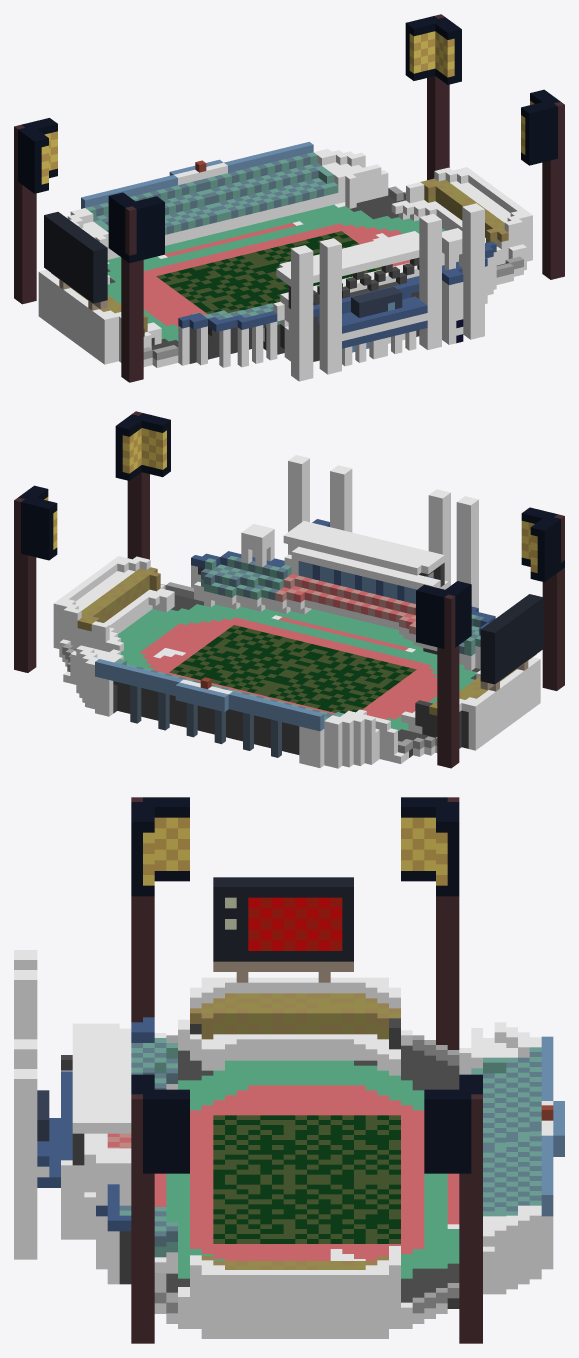
File: siranamisutajiamu.glb
The picture shows the model from 3 angles, top to bottom: view 1: azimuth 30°, elevation 25°; view 2: azimuth 150°, elevation 25°; view 3: azimuth 270°, elevation 25°; orthographic projection. The views are drawn at different scales.
Parts seen in each view (by area): view 1: Untitled; view 2: Untitled; view 3: Untitled.
Part boxes in pixels (left/top/right/bottom): Untitled: left=14, top=14, right=564, bottom=382; Untitled: left=14, top=411, right=564, bottom=768; Untitled: left=14, top=797, right=564, bottom=1343.
Bounding box in the file's own units: 6.2 × 2.3 × 4.7.
Materials: 1 (1 with a texture image).
